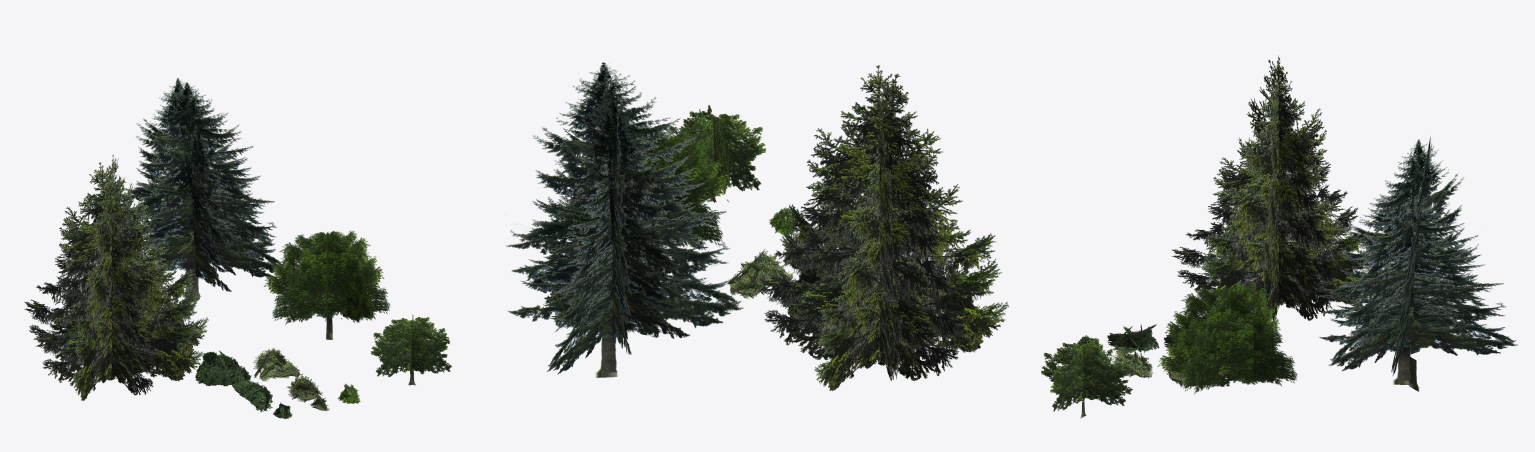
File: trees_and_bush_pack.glb
3 views of the same model, side by side, from view 1: azimuth 30°, elevation 25°; view 2: azimuth 150°, elevation 25°; view 3: azimuth 270°, elevation 25° (orthographic). The views are drawn at different scales.
Visible parts, largest first — view 1: pine1, Pine2, tree2, TreeSmall, MushBig, BushBig2, BushMed, BushMed2; view 2: pine1, Pine2, tree2, TreeSmall, BushBig2, BushFlowerSmall; view 3: pine1, Pine2, tree2, TreeSmall, BushMed, BushMed2.
Part boxes in pixels (x1,y1,x2,y2): pine1: (24, 154, 208, 401); Pine2: (123, 78, 284, 302); tree2: (264, 231, 390, 339); TreeSmall: (371, 314, 451, 385); MushBig: (195, 350, 251, 391); BushBig2: (253, 347, 301, 381); BushMed: (232, 379, 272, 412); BushMed2: (286, 373, 322, 402); pine1: (757, 65, 1008, 391); Pine2: (505, 62, 743, 377); tree2: (581, 124, 731, 250); TreeSmall: (668, 105, 766, 202); BushBig2: (727, 249, 794, 299); BushFlowerSmall: (769, 207, 796, 236); pine1: (1171, 55, 1372, 324); Pine2: (1317, 136, 1517, 391); tree2: (1157, 280, 1297, 394); TreeSmall: (1041, 338, 1132, 418); BushMed: (1107, 324, 1159, 354); BushMed2: (1110, 346, 1152, 378).
Size of the model in its own units: 63.05 by 49.75 by 68.04.
Materials: 8 (8 with a texture image).
